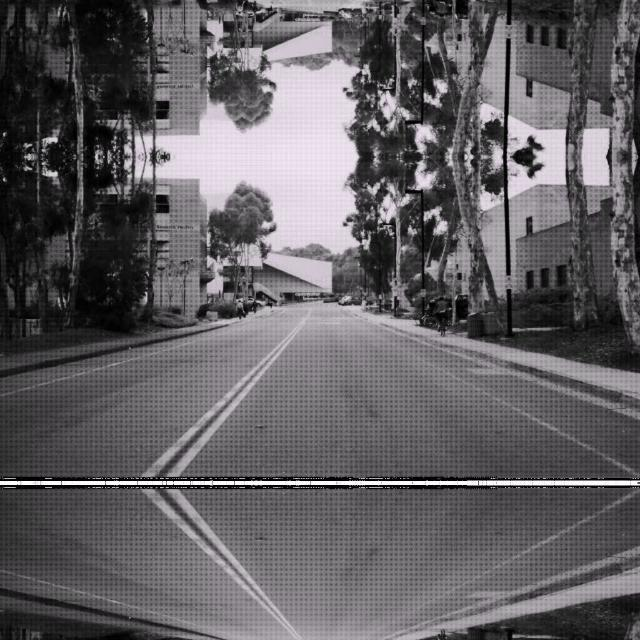pedestrianCrossing: (389, 276, 401, 288), (389, 24, 401, 36)
